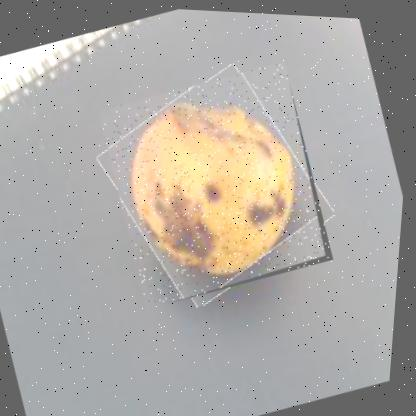mango_rotten: (87, 50, 348, 315)
